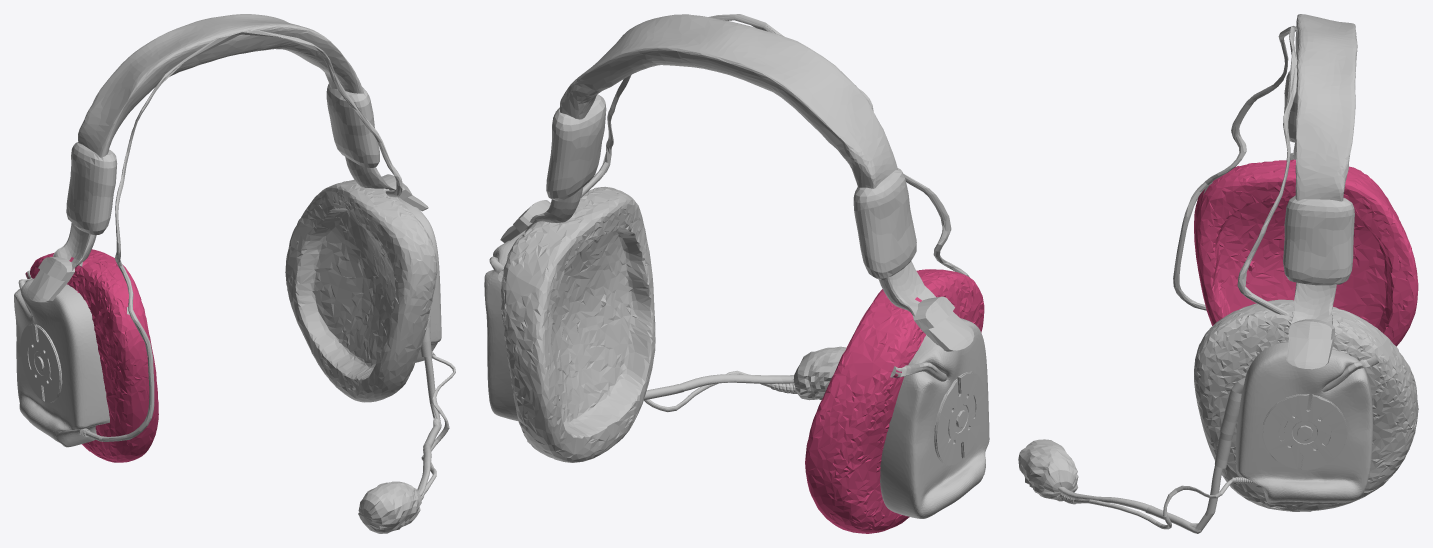
Rendered from interactive_2_1.glb.
The picture shows the model from 3 angles, left to right: view 1: azimuth 30°, elevation 25°; view 2: azimuth 150°, elevation 25°; view 3: azimuth 270°, elevation 25°; orthographic projection. The views are drawn at different scales.
Parts seen in each view (by area): view 1: pred_target_mesh.ply; view 2: pred_target_mesh.ply; view 3: pred_target_mesh.ply.
Boxes of the visible parts, <box> form: pred_target_mesh.ply: <box>14,14,455,533</box>; pred_target_mesh.ply: <box>484,14,989,533</box>; pred_target_mesh.ply: <box>1018,14,1418,533</box>.
Size of the model in its own units: 0.6015 by 0.616 by 0.5086.
